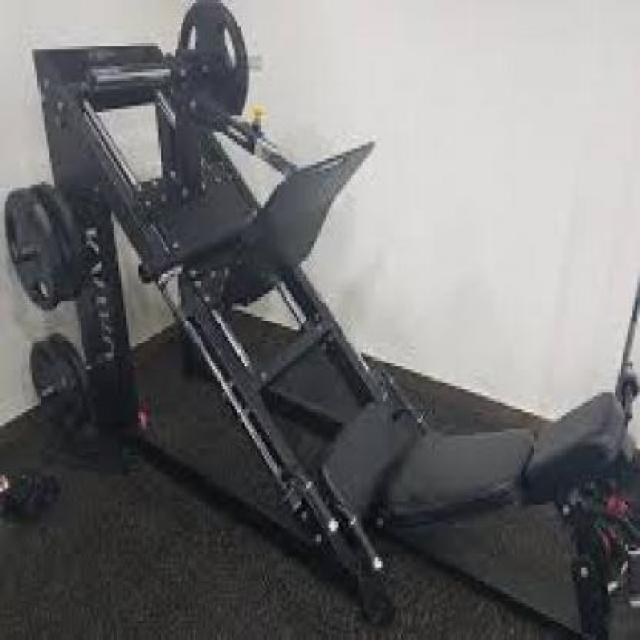leg press: (4, 23, 640, 640)
